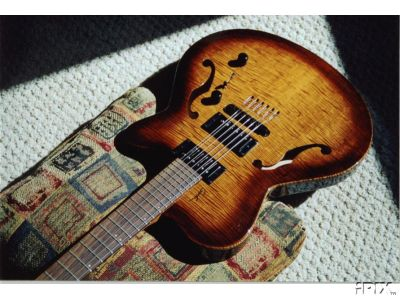guitar: (31, 29, 373, 279)
